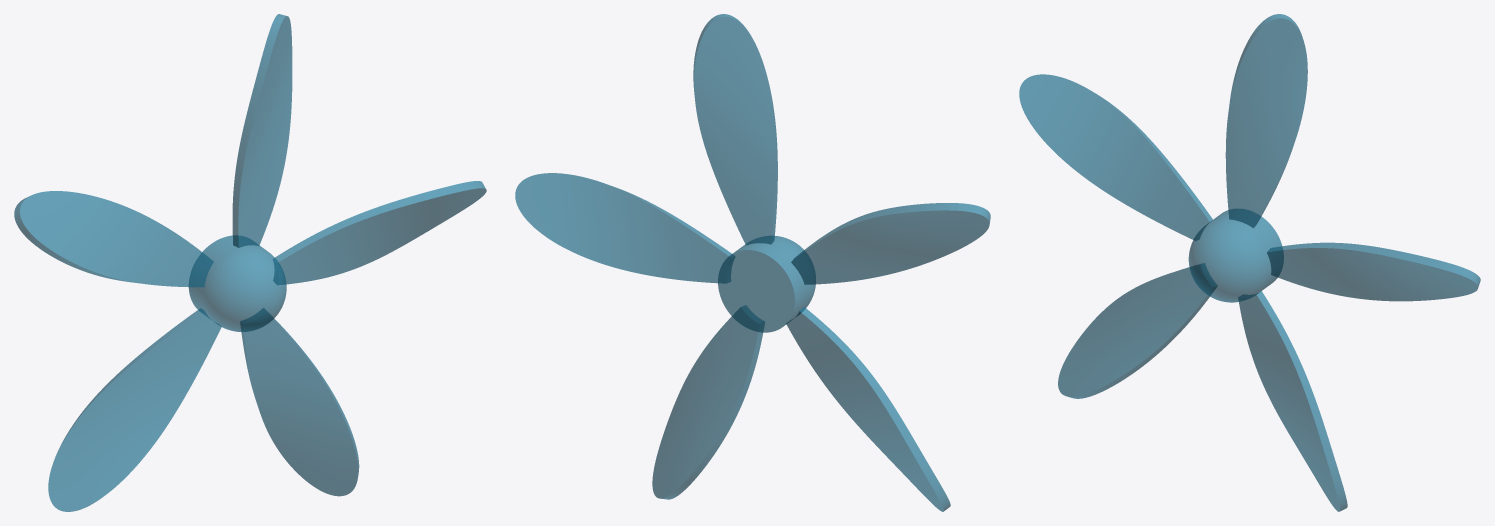
Rendered from fan.glb.
3 renders of one model, left to right at view 1: azimuth 30°, elevation 25°; view 2: azimuth 150°, elevation 25°; view 3: azimuth 330°, elevation 25°, orthographic. The views are drawn at different scales.
Size of the model in its own units: 3.67 by 3.69 by 0.5382.
